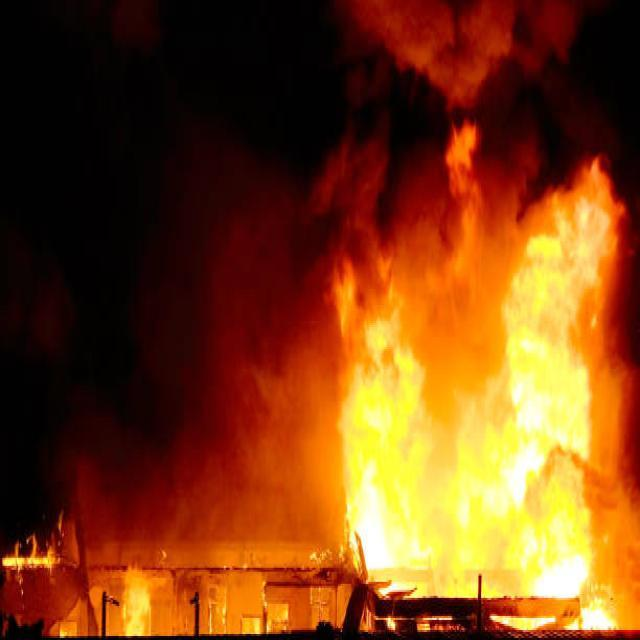Fire: (323, 115, 624, 636), (0, 532, 62, 582), (125, 577, 156, 640)
